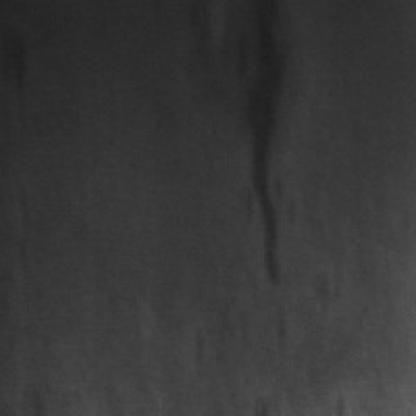inclusion: (237, 0, 302, 285), (6, 15, 40, 126), (187, 0, 223, 100)
